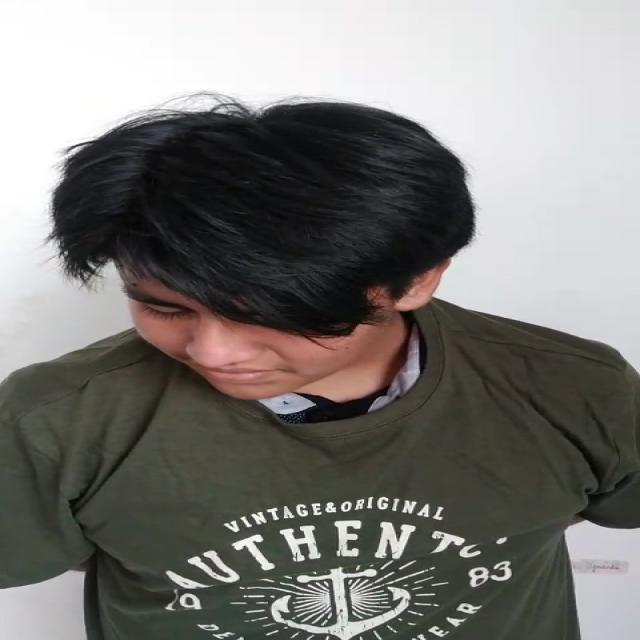9_cabeza_baja: (62, 98, 463, 397)
